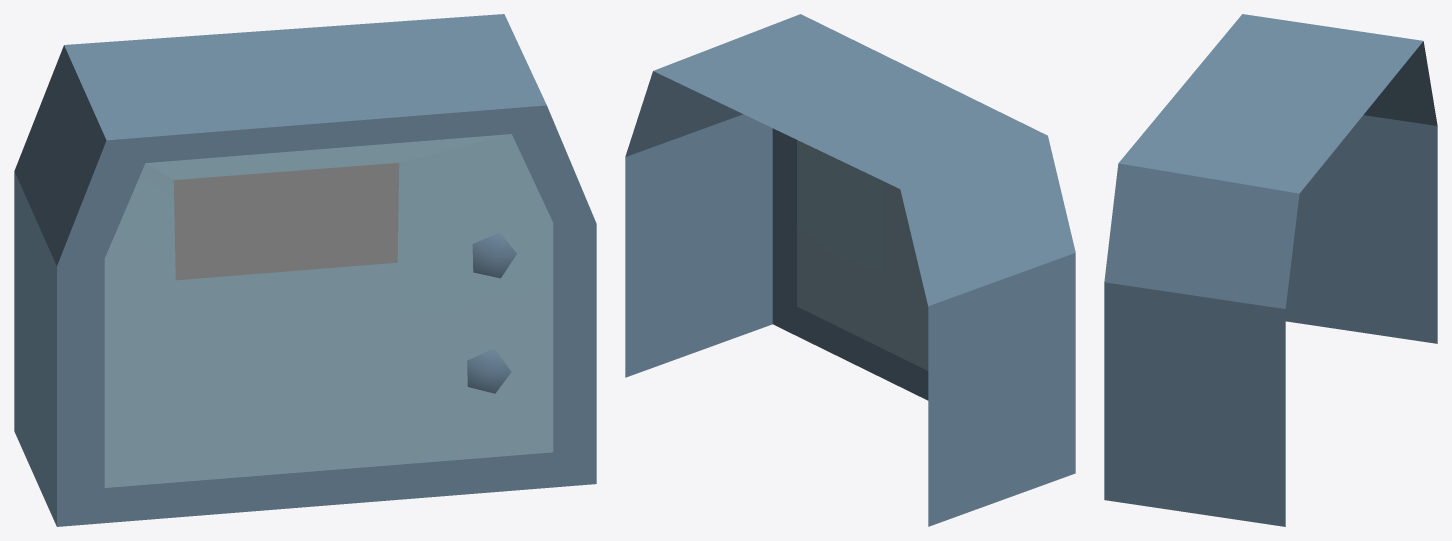
The model's file is MSH_QuestObject_box_02.fbx.
3 renders of one model, left to right at view 1: azimuth 30°, elevation 25°; view 2: azimuth 150°, elevation 25°; view 3: azimuth 270°, elevation 25°, orthographic. The views are drawn at different scales.
Parts seen in each view (by area): view 1: MSH_QuestObject_box_02; view 2: MSH_QuestObject_box_02; view 3: MSH_QuestObject_box_02.
Part boxes in pixels (left/top/right/bottom): MSH_QuestObject_box_02: left=14, top=14, right=596, bottom=526; MSH_QuestObject_box_02: left=625, top=14, right=1075, bottom=526; MSH_QuestObject_box_02: left=1104, top=14, right=1437, bottom=526.
Bounding box in the file's own units: 0.6305 × 0.4479 × 0.423.
